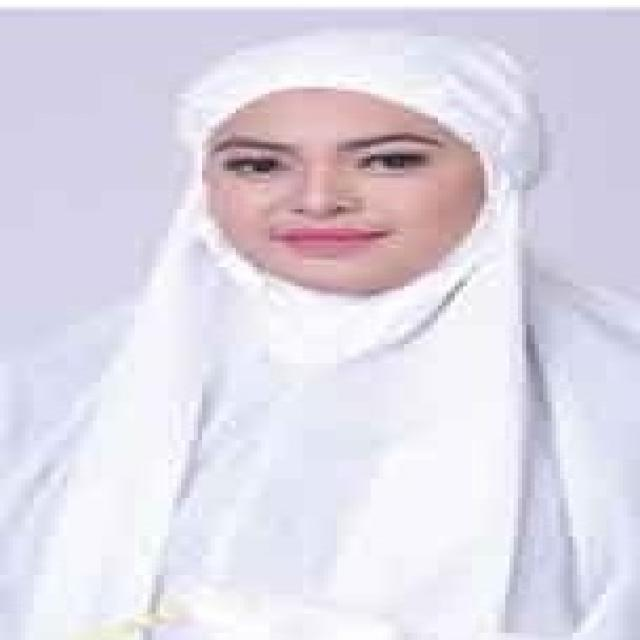head: (175, 27, 534, 308)
